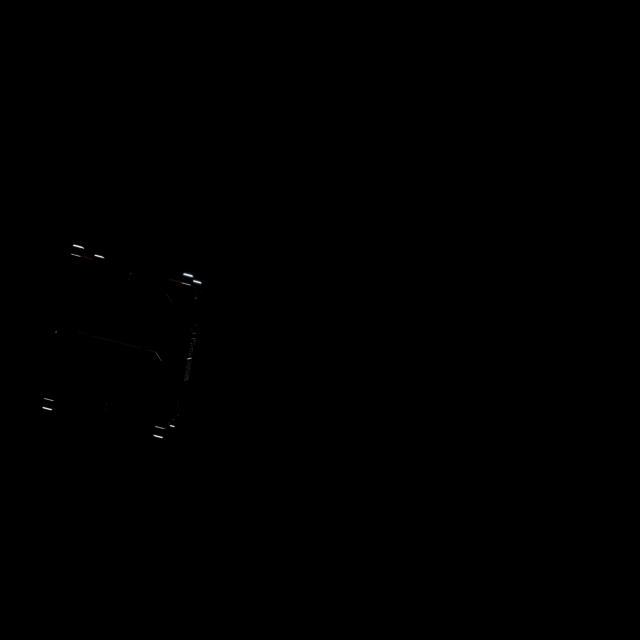medium_debris: (39, 236, 213, 456)
